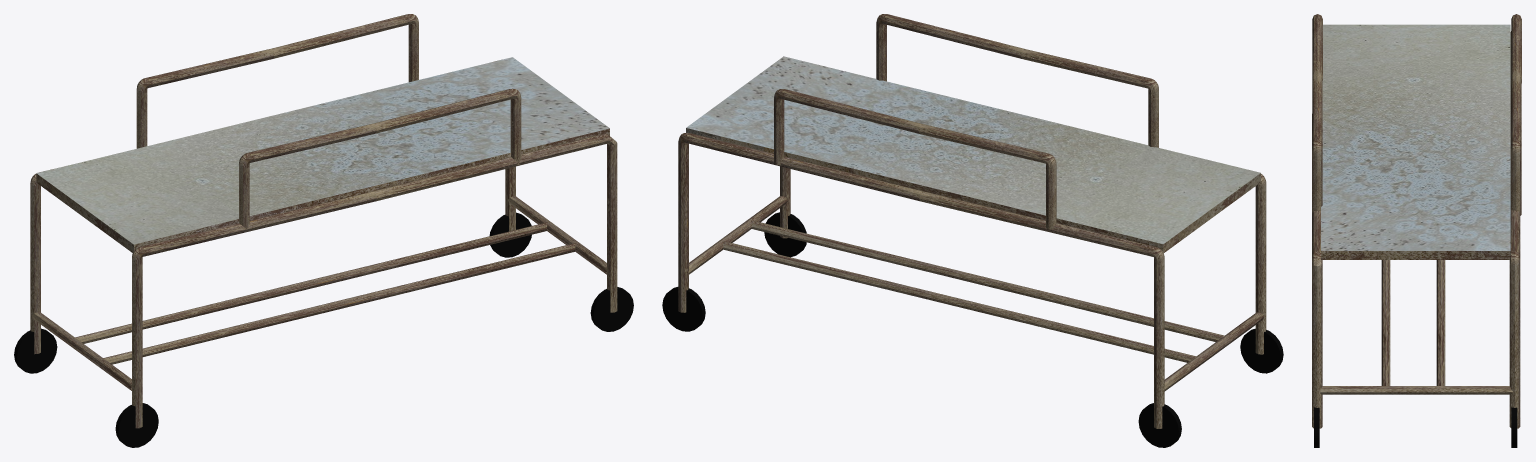
Rendered from bed.obj.
3 views of the same model, side by side, from view 1: azimuth 30°, elevation 25°; view 2: azimuth 150°, elevation 25°; view 3: azimuth 270°, elevation 25° (orthographic). The views are drawn at different scales.
Visible parts, largest first — view 1: polySurface51; view 2: polySurface51; view 3: polySurface51.
Boxes of the visible parts, x1=… form: polySurface51: x1=14, y1=14, x2=633, y2=447; polySurface51: x1=662, y1=14, x2=1283, y2=447; polySurface51: x1=1312, y1=14, x2=1521, y2=447.
Size of the model in its own units: 11.84 by 5.83 by 4.29.
